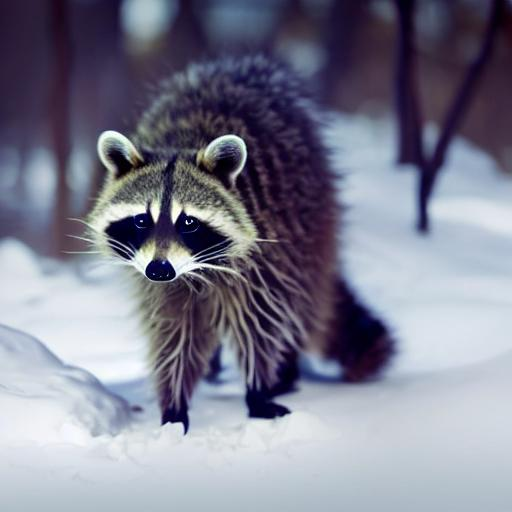raccoon: (73, 37, 406, 391)
